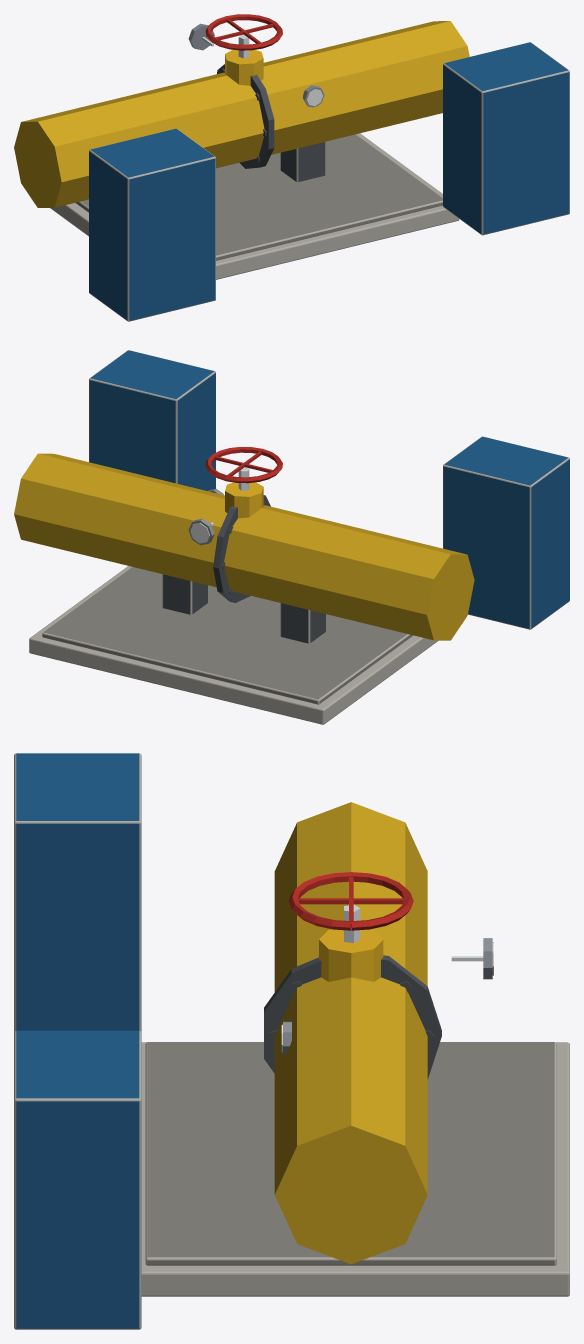
Rendered from on_pipeline_valve.glb.
3 views of the same model, one above another, from view 1: azimuth 30°, elevation 25°; view 2: azimuth 150°, elevation 25°; view 3: azimuth 270°, elevation 25° (orthographic). The views are drawn at different scales.
Visible parts, largest first — view 1: on_pipeline_valve; view 2: on_pipeline_valve; view 3: on_pipeline_valve.
Boxes of the visible parts, bbox=[...] form: on_pipeline_valve: bbox=[14, 14, 569, 321]; on_pipeline_valve: bbox=[14, 350, 569, 724]; on_pipeline_valve: bbox=[14, 753, 569, 1329].
Size of the model in its own units: 4.5 by 1.72 by 3.05.
